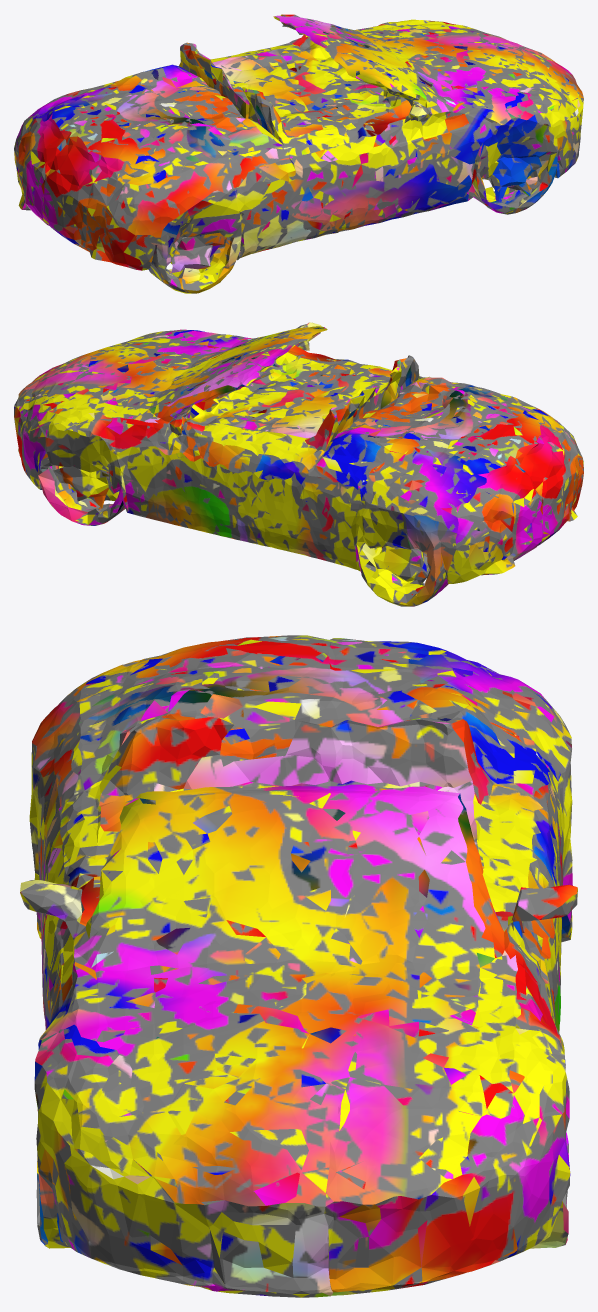
3 views of the same model, one above another, from view 1: azimuth 30°, elevation 25°; view 2: azimuth 150°, elevation 25°; view 3: azimuth 270°, elevation 25° (orthographic). The views are drawn at different scales.
Size of the model in its own units: 0.8952 by 0.2696 by 0.42.
